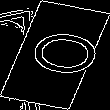O_E: (10, 27, 100, 83)
